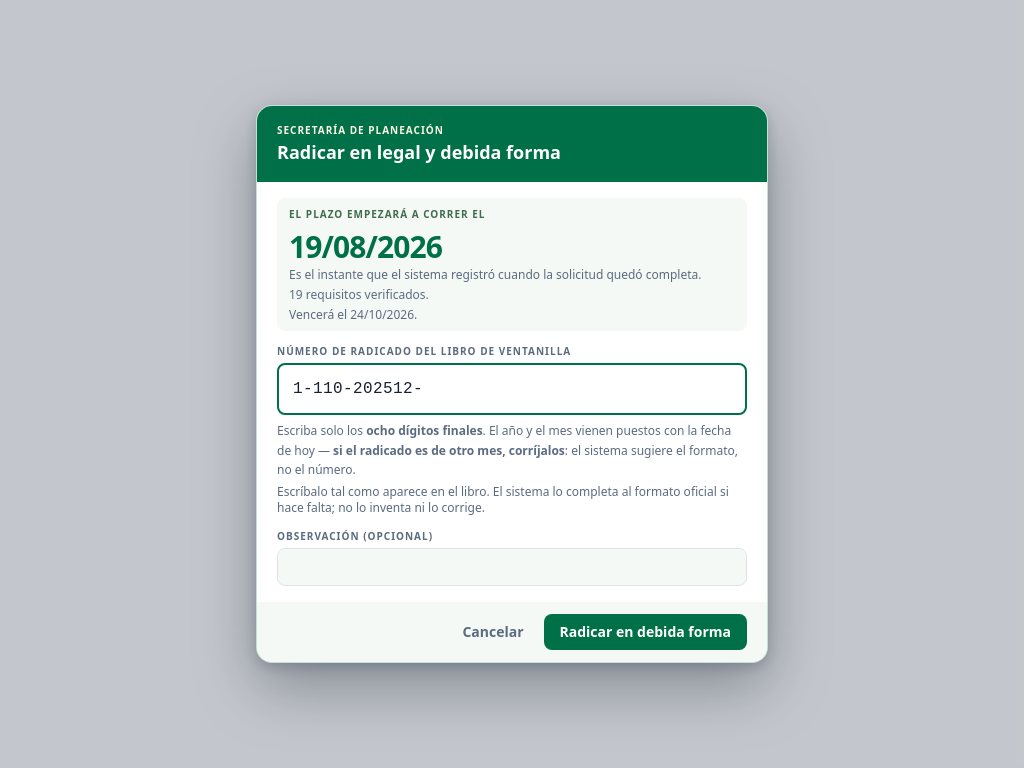
Test case: el prefijo del radicado viene puesto › el prefijo SOLO no vale como número escrito
Step 1. Click the button "Radicar en debida forma" → (645, 632), box [544,614,747,650]
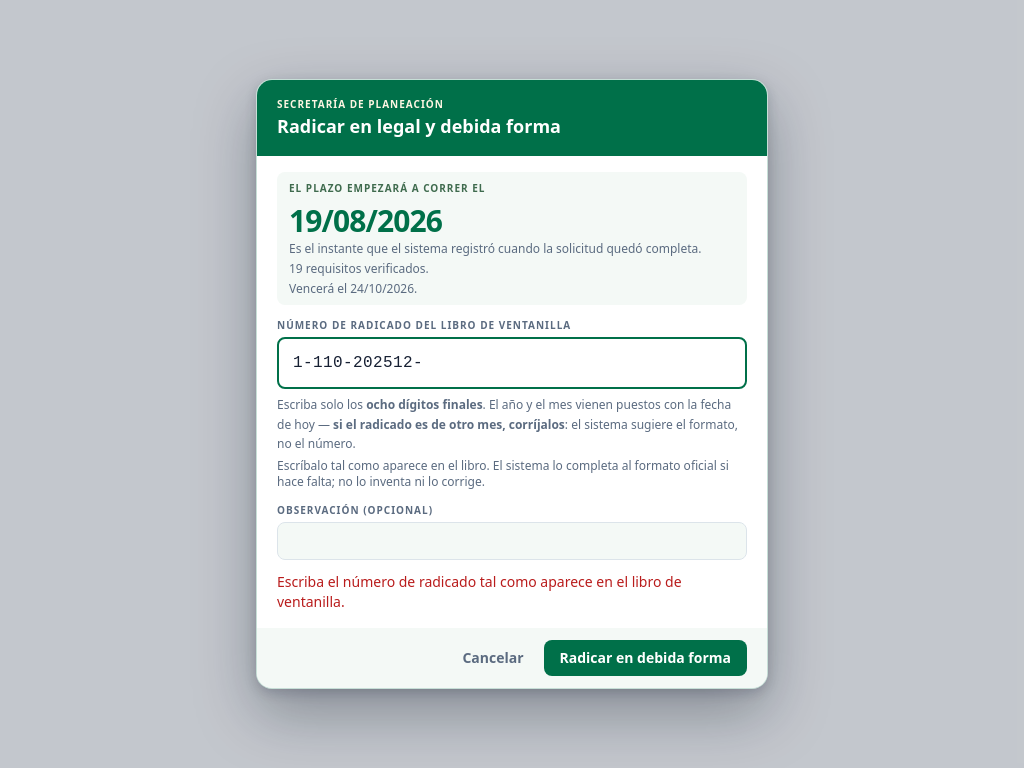
expect the message shows "libro de ventanilla": met, box [277,572,682,611]
